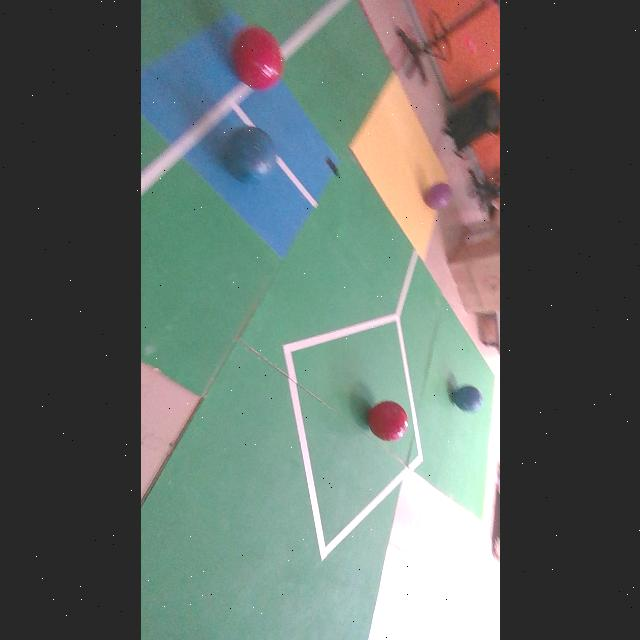B: (224, 127, 275, 183), (454, 385, 482, 412)
P: (424, 183, 452, 210)
R: (232, 27, 284, 90), (368, 402, 407, 441)
